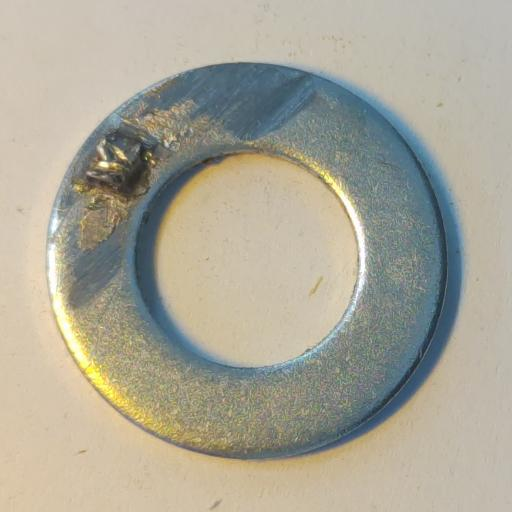excess_material: (79, 97, 196, 252)
